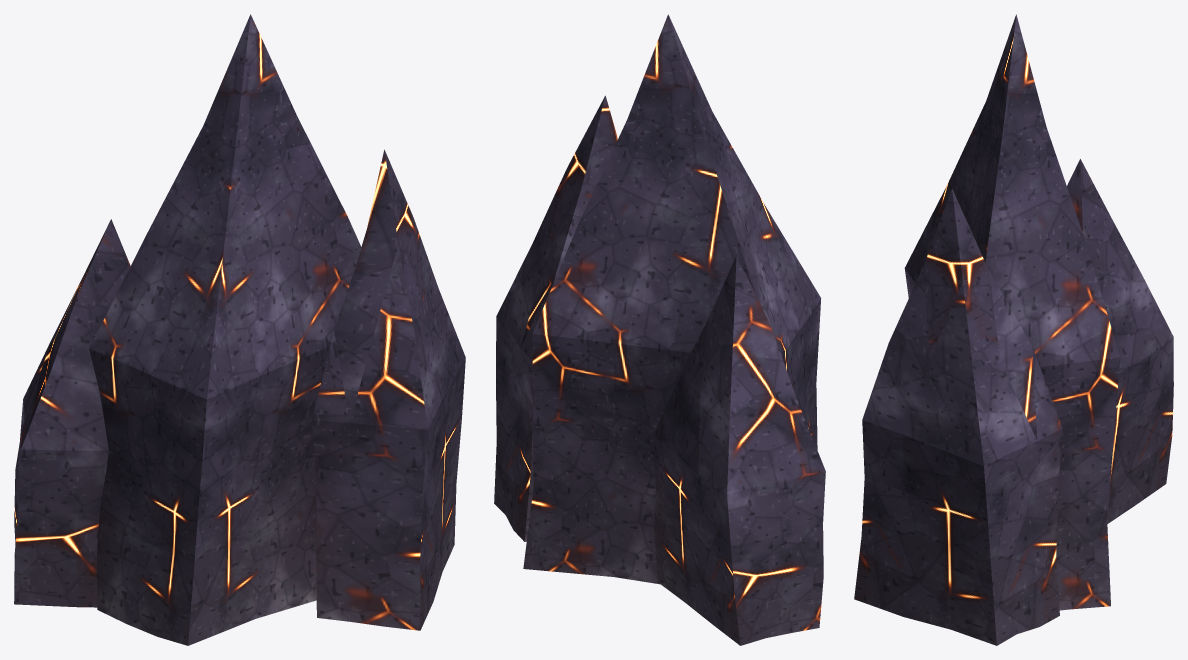
The model's file is obsidian_shard.glb.
3 renders of one model, left to right at view 1: azimuth 30°, elevation 25°; view 2: azimuth 150°, elevation 25°; view 3: azimuth 270°, elevation 25°, orthographic. The views are drawn at different scales.
Parts seen in each view (by area): view 1: obsidian_shard; view 2: obsidian_shard; view 3: obsidian_shard.
Part boxes in pixels (box(x1,y1,x2,y2)): obsidian_shard: box(14, 14, 465, 645); obsidian_shard: box(494, 14, 825, 645); obsidian_shard: box(854, 14, 1173, 645).
Size of the model in its own units: 4.79 by 6.64 by 3.51.
1 material, 1 textured.
